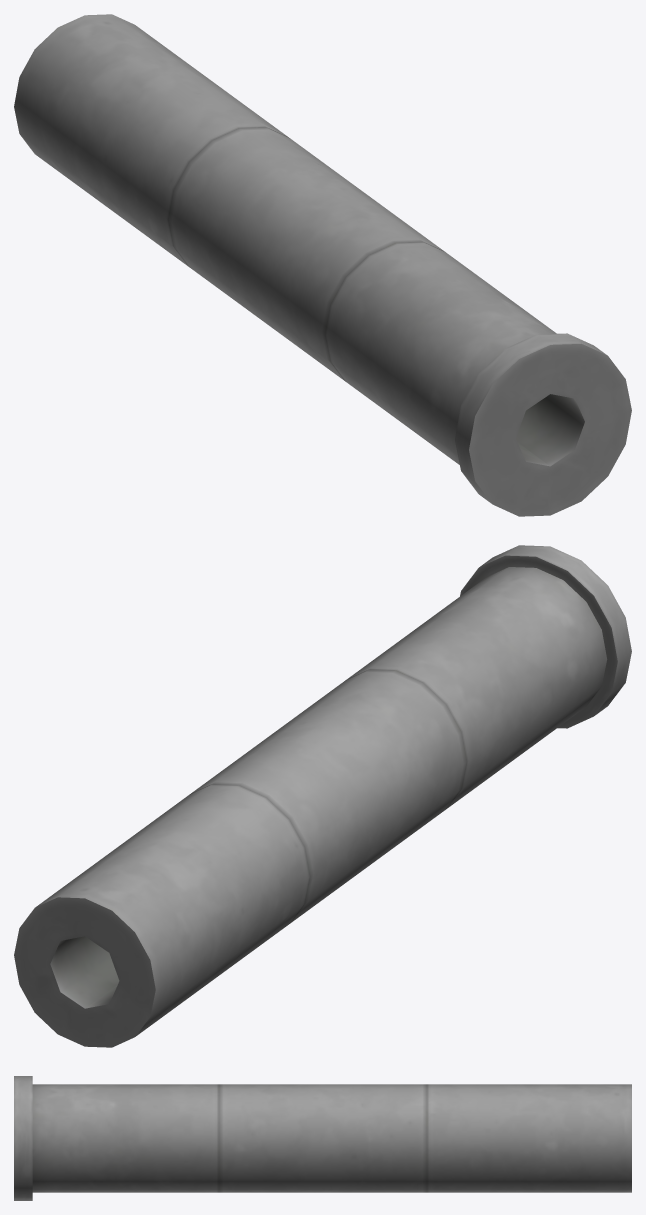
The model's file is IG_Acc_Muzzle_AR_SIL_1.fbx.
3 renders of one model, top to bottom at view 1: azimuth 30°, elevation 25°; view 2: azimuth 150°, elevation 25°; view 3: azimuth 270°, elevation 25°, orthographic. The views are drawn at different scales.
Parts seen in each view (by area): view 1: Muzzle_AR_SIL_1; view 2: Muzzle_AR_SIL_1; view 3: Muzzle_AR_SIL_1.
Part boxes in pixels (x1,y1,x2,y2): Muzzle_AR_SIL_1: (14, 14, 631, 516); Muzzle_AR_SIL_1: (14, 545, 631, 1047); Muzzle_AR_SIL_1: (14, 1076, 631, 1200).
Size of the model in its own units: 0.0629 by 0.0629 by 0.3112.
